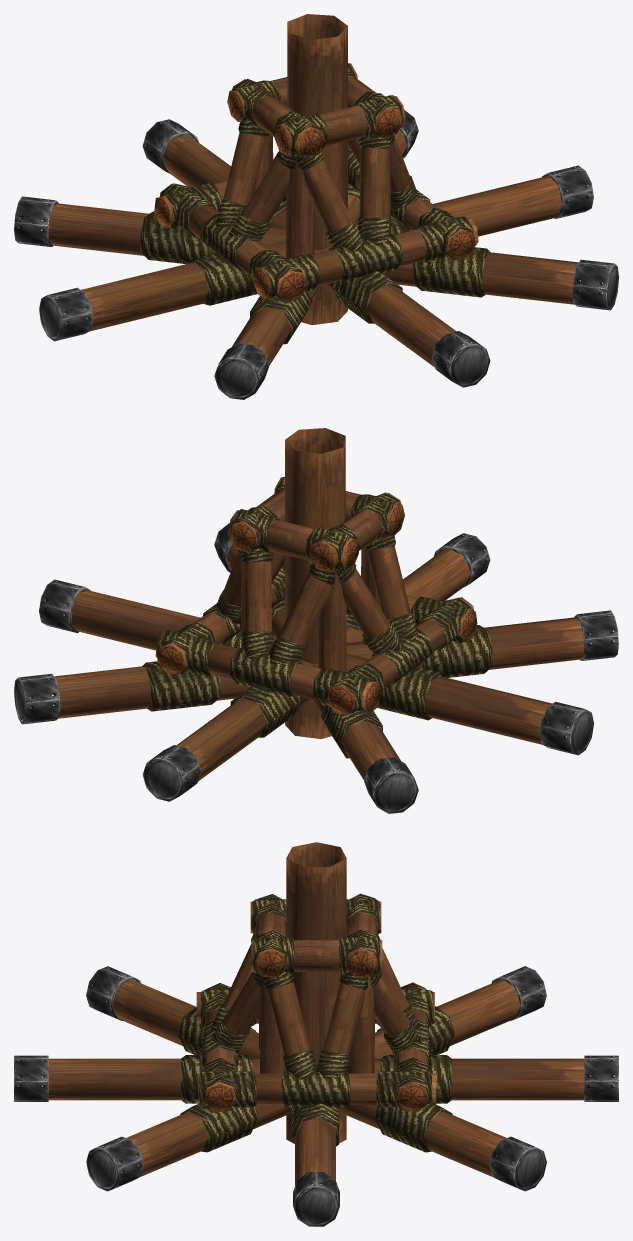
Rendered from INST_SWORDLIGHT_WHEELOPAIN.fbx.
3 views of the same model, one above another, from view 1: azimuth 30°, elevation 25°; view 2: azimuth 150°, elevation 25°; view 3: azimuth 270°, elevation 25° (orthographic).
Parts seen in each view (by area): view 1: INST_SWORDLIGHT_WHEELOPAIN; view 2: INST_SWORDLIGHT_WHEELOPAIN; view 3: INST_SWORDLIGHT_WHEELOPAIN.
Part boxes in pixels (x1=…): INST_SWORDLIGHT_WHEELOPAIN: x1=14, y1=14, x2=618, y2=399; INST_SWORDLIGHT_WHEELOPAIN: x1=14, y1=428, x2=618, y2=813; INST_SWORDLIGHT_WHEELOPAIN: x1=14, y1=842, x2=618, y2=1226.
Size of the model in its own units: 90162 by 46269 by 90162.
5 materials, 5 textured.
